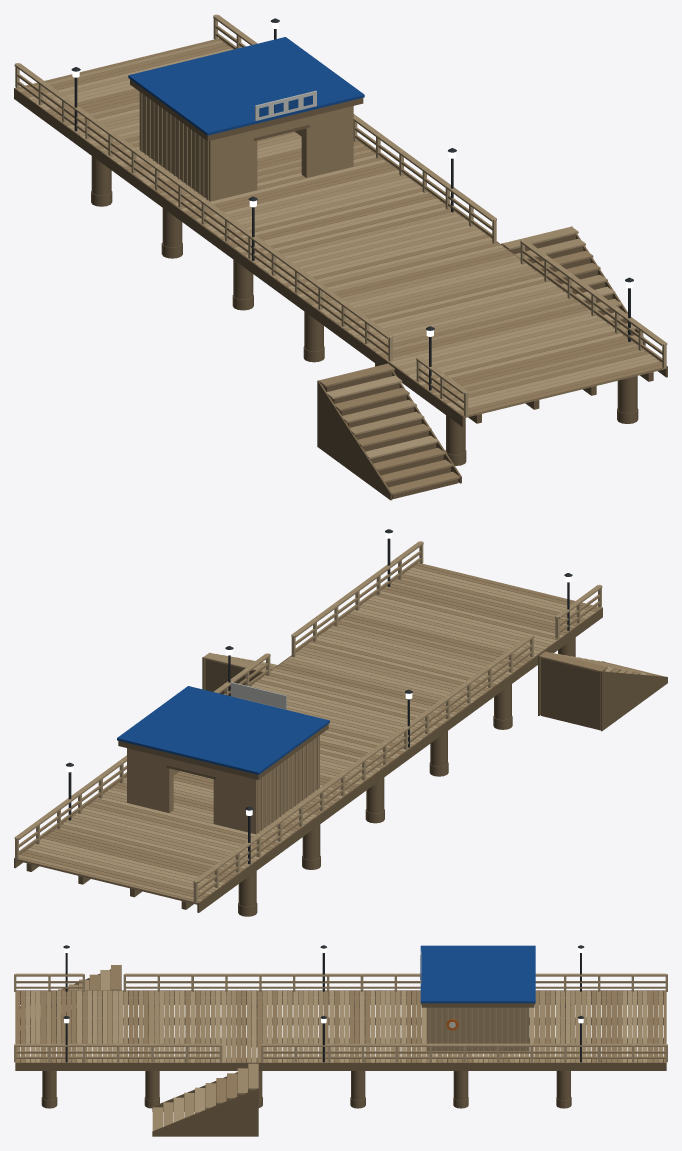
Rendered from gb-pier.glb.
3 views of the same model, one above another, from view 1: azimuth 30°, elevation 25°; view 2: azimuth 150°, elevation 25°; view 3: azimuth 270°, elevation 25° (orthographic). The views are drawn at different scales.
Parts seen in each view (by area): view 1: gb-pier; view 2: gb-pier; view 3: gb-pier.
Boxes of the visible parts, x1,y1,x2,y2 form: gb-pier: (14, 14, 667, 500); gb-pier: (14, 529, 667, 916); gb-pier: (14, 945, 667, 1136).
Size of the model in its own units: 17.08 by 7.25 by 38.14.
